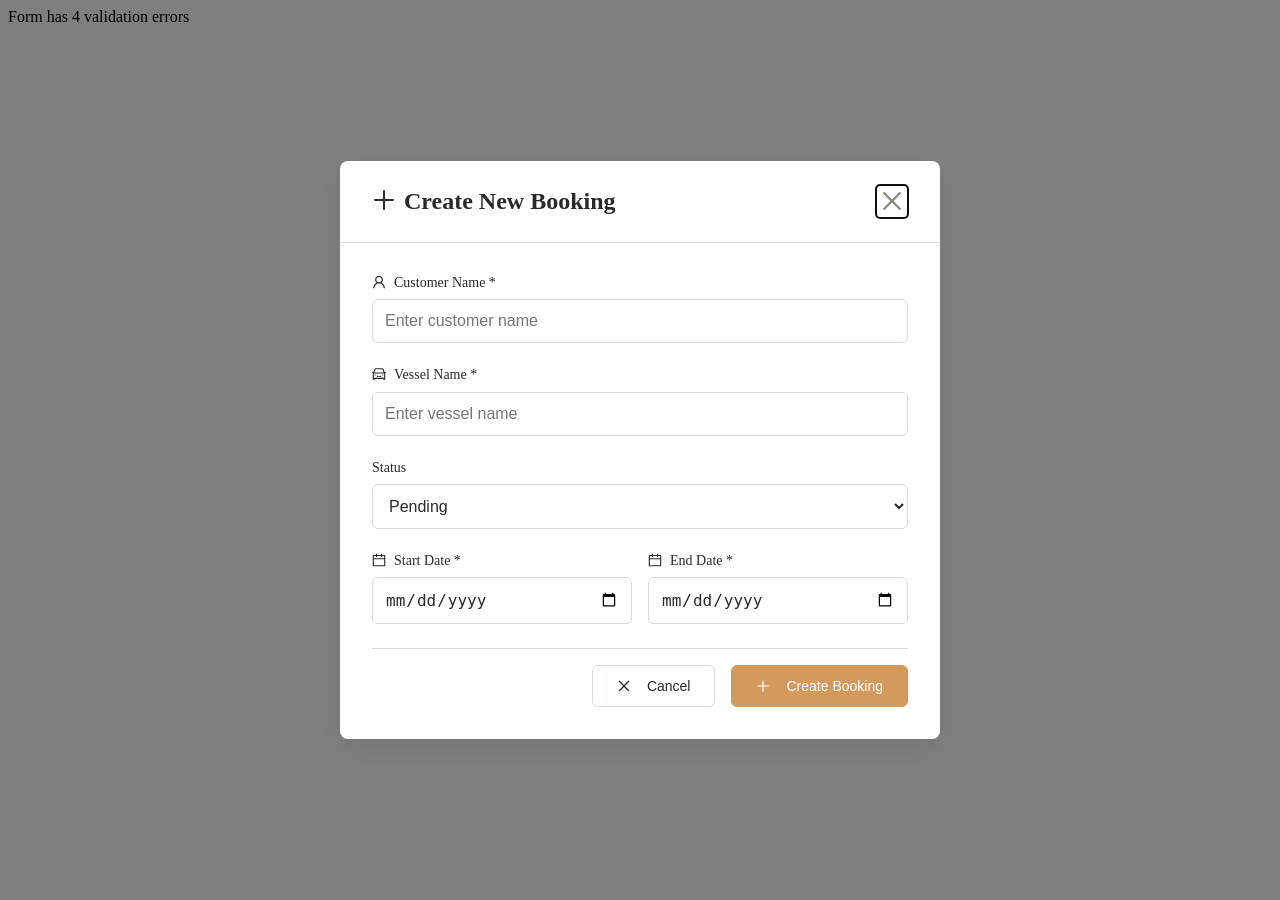
Test: CreateBookingForm › Form Submission › submits valid form data successfully
The width and height of the screenshot is (1280, 900).
Note: Fill valid form data
In the field labelled "Customer Name *": [640, 321] box [372, 299, 908, 343], type "Test Customer"
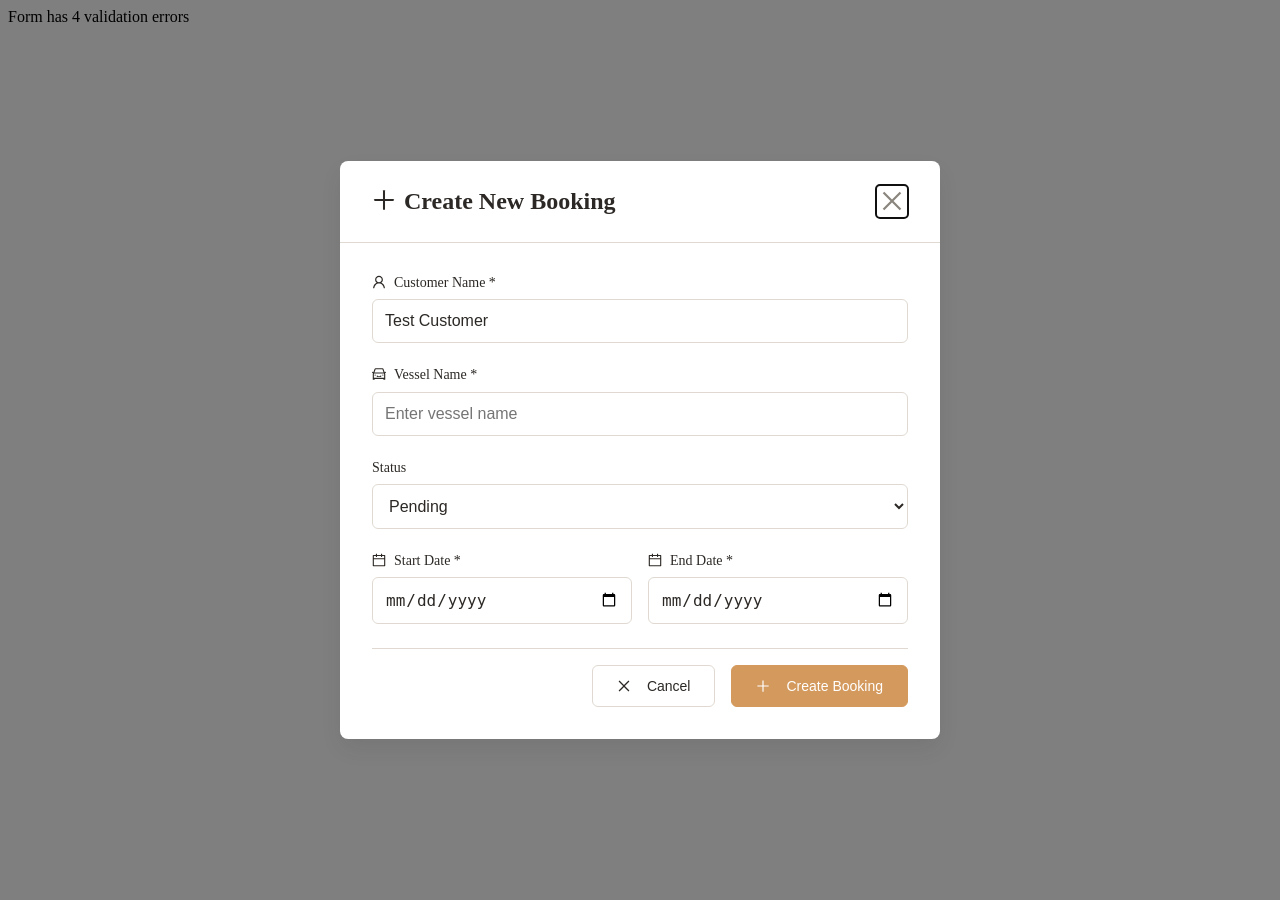
In the field labelled "Vessel Name *": [640, 414] box [372, 392, 908, 436], type "Test Vessel"
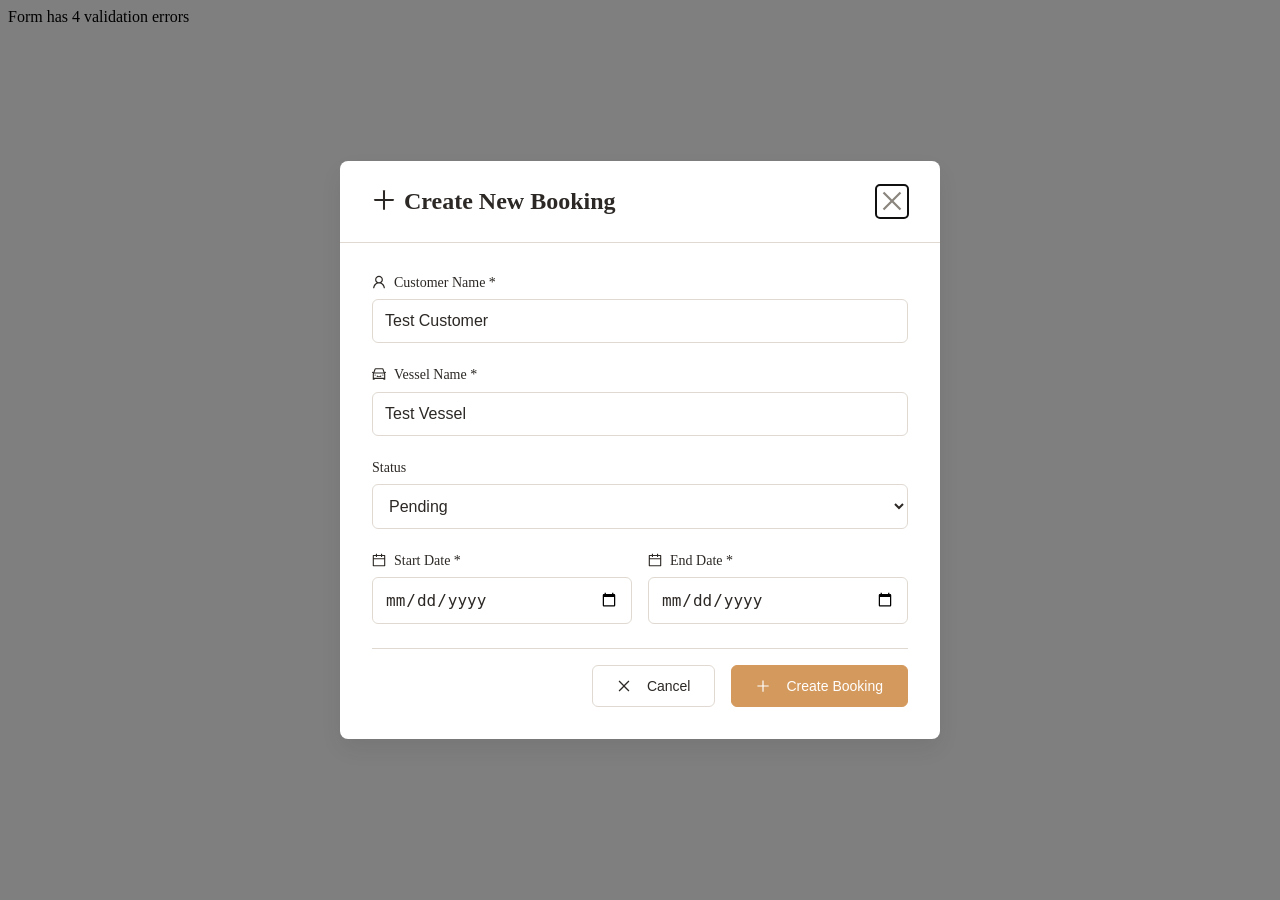
Select "Confirmed" in the dropdown labelled "Status": [640, 506] box [372, 484, 908, 529]
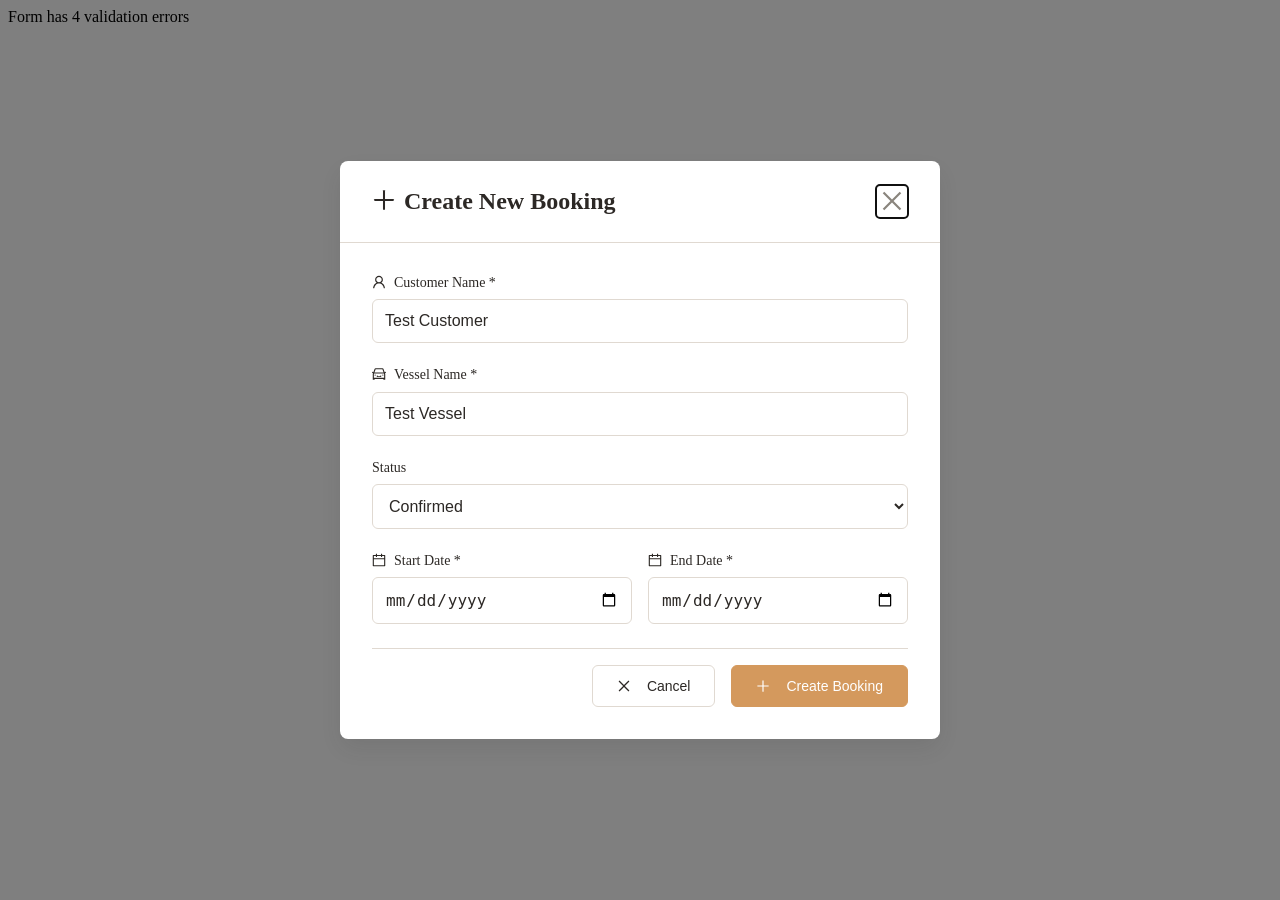
In the date field labelled "Start Date *": [502, 600] box [372, 577, 632, 624], type "2026-02-10"
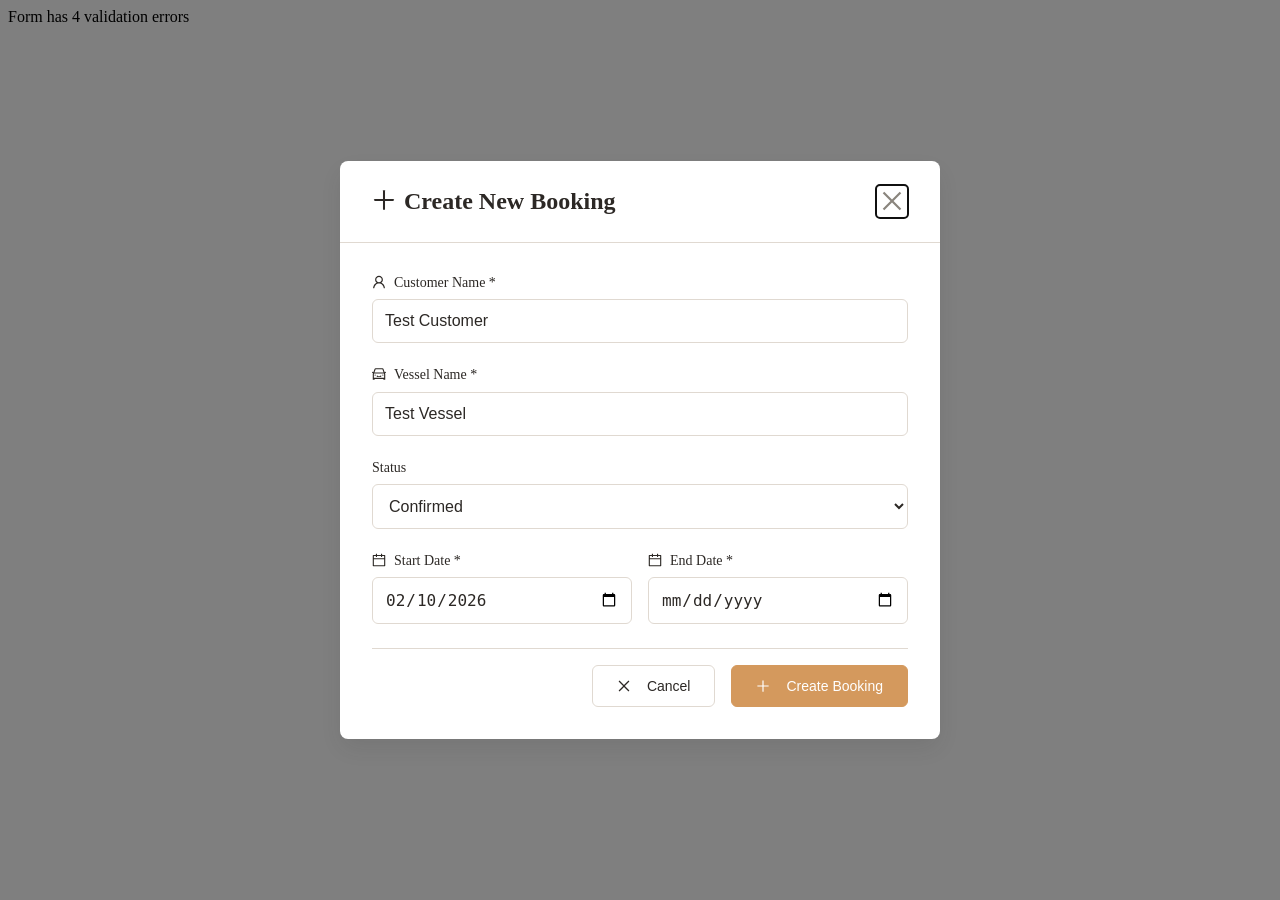
In the date field labelled "End Date *": [778, 600] box [648, 577, 908, 624], type "2026-02-15"
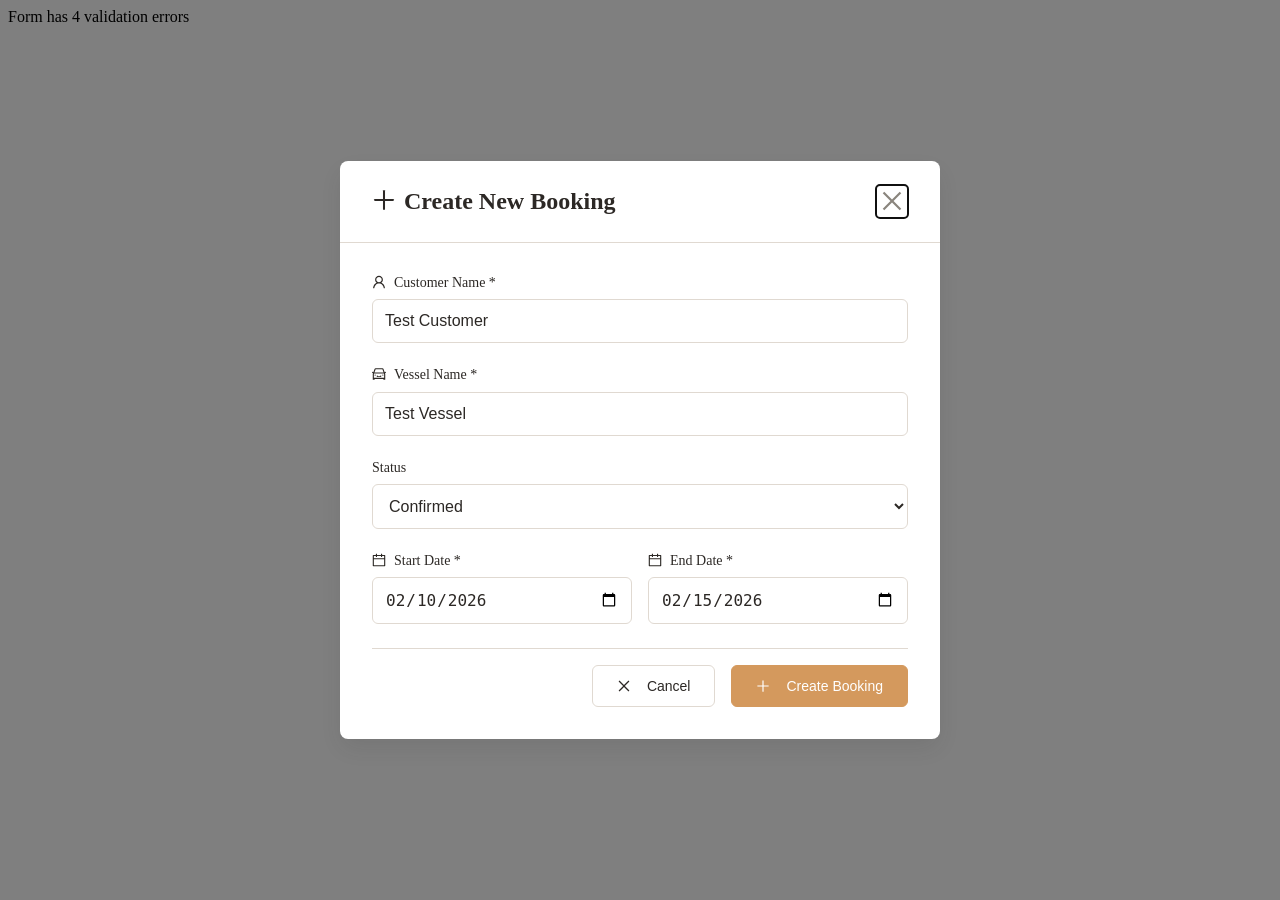
Click the button "Create Booking": [820, 686] box [732, 665, 908, 707]
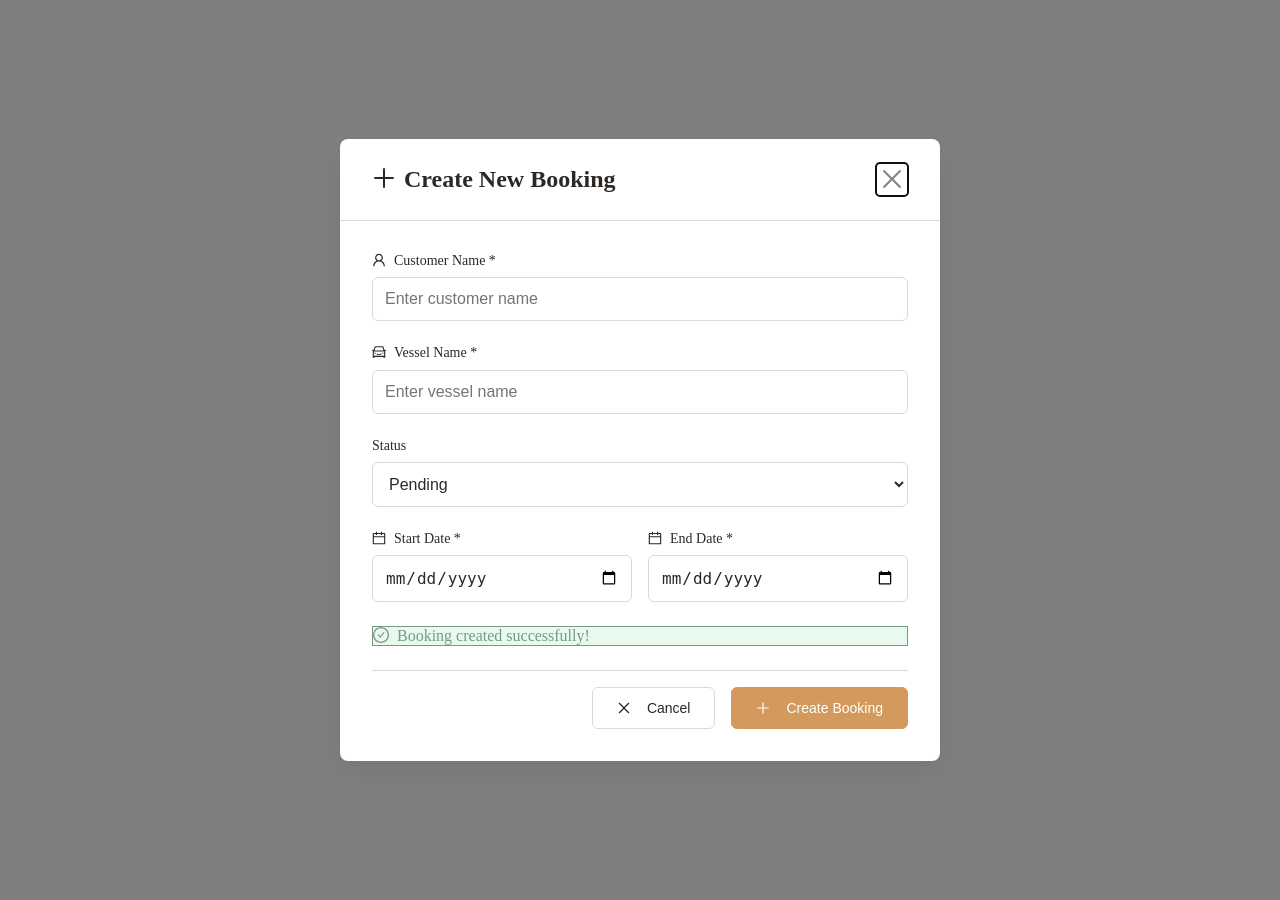
Result: the text "Booking created successfully!" is shown at [372, 626, 908, 646]
